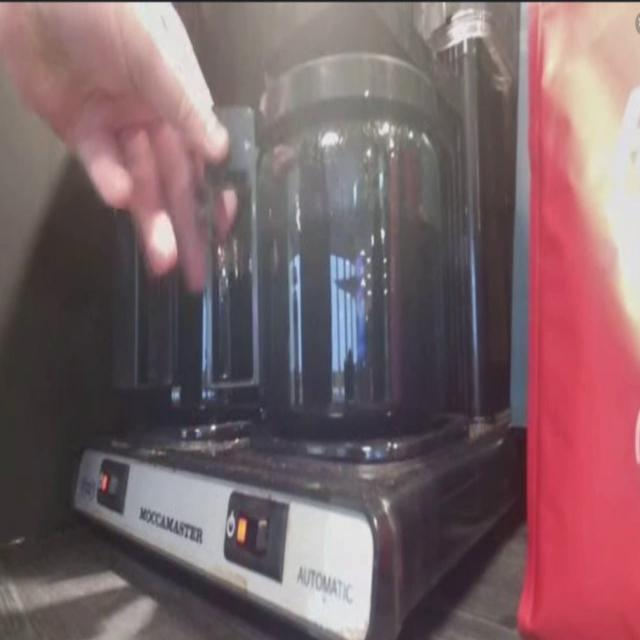coffee: (255, 156, 436, 426), (161, 288, 242, 413)
